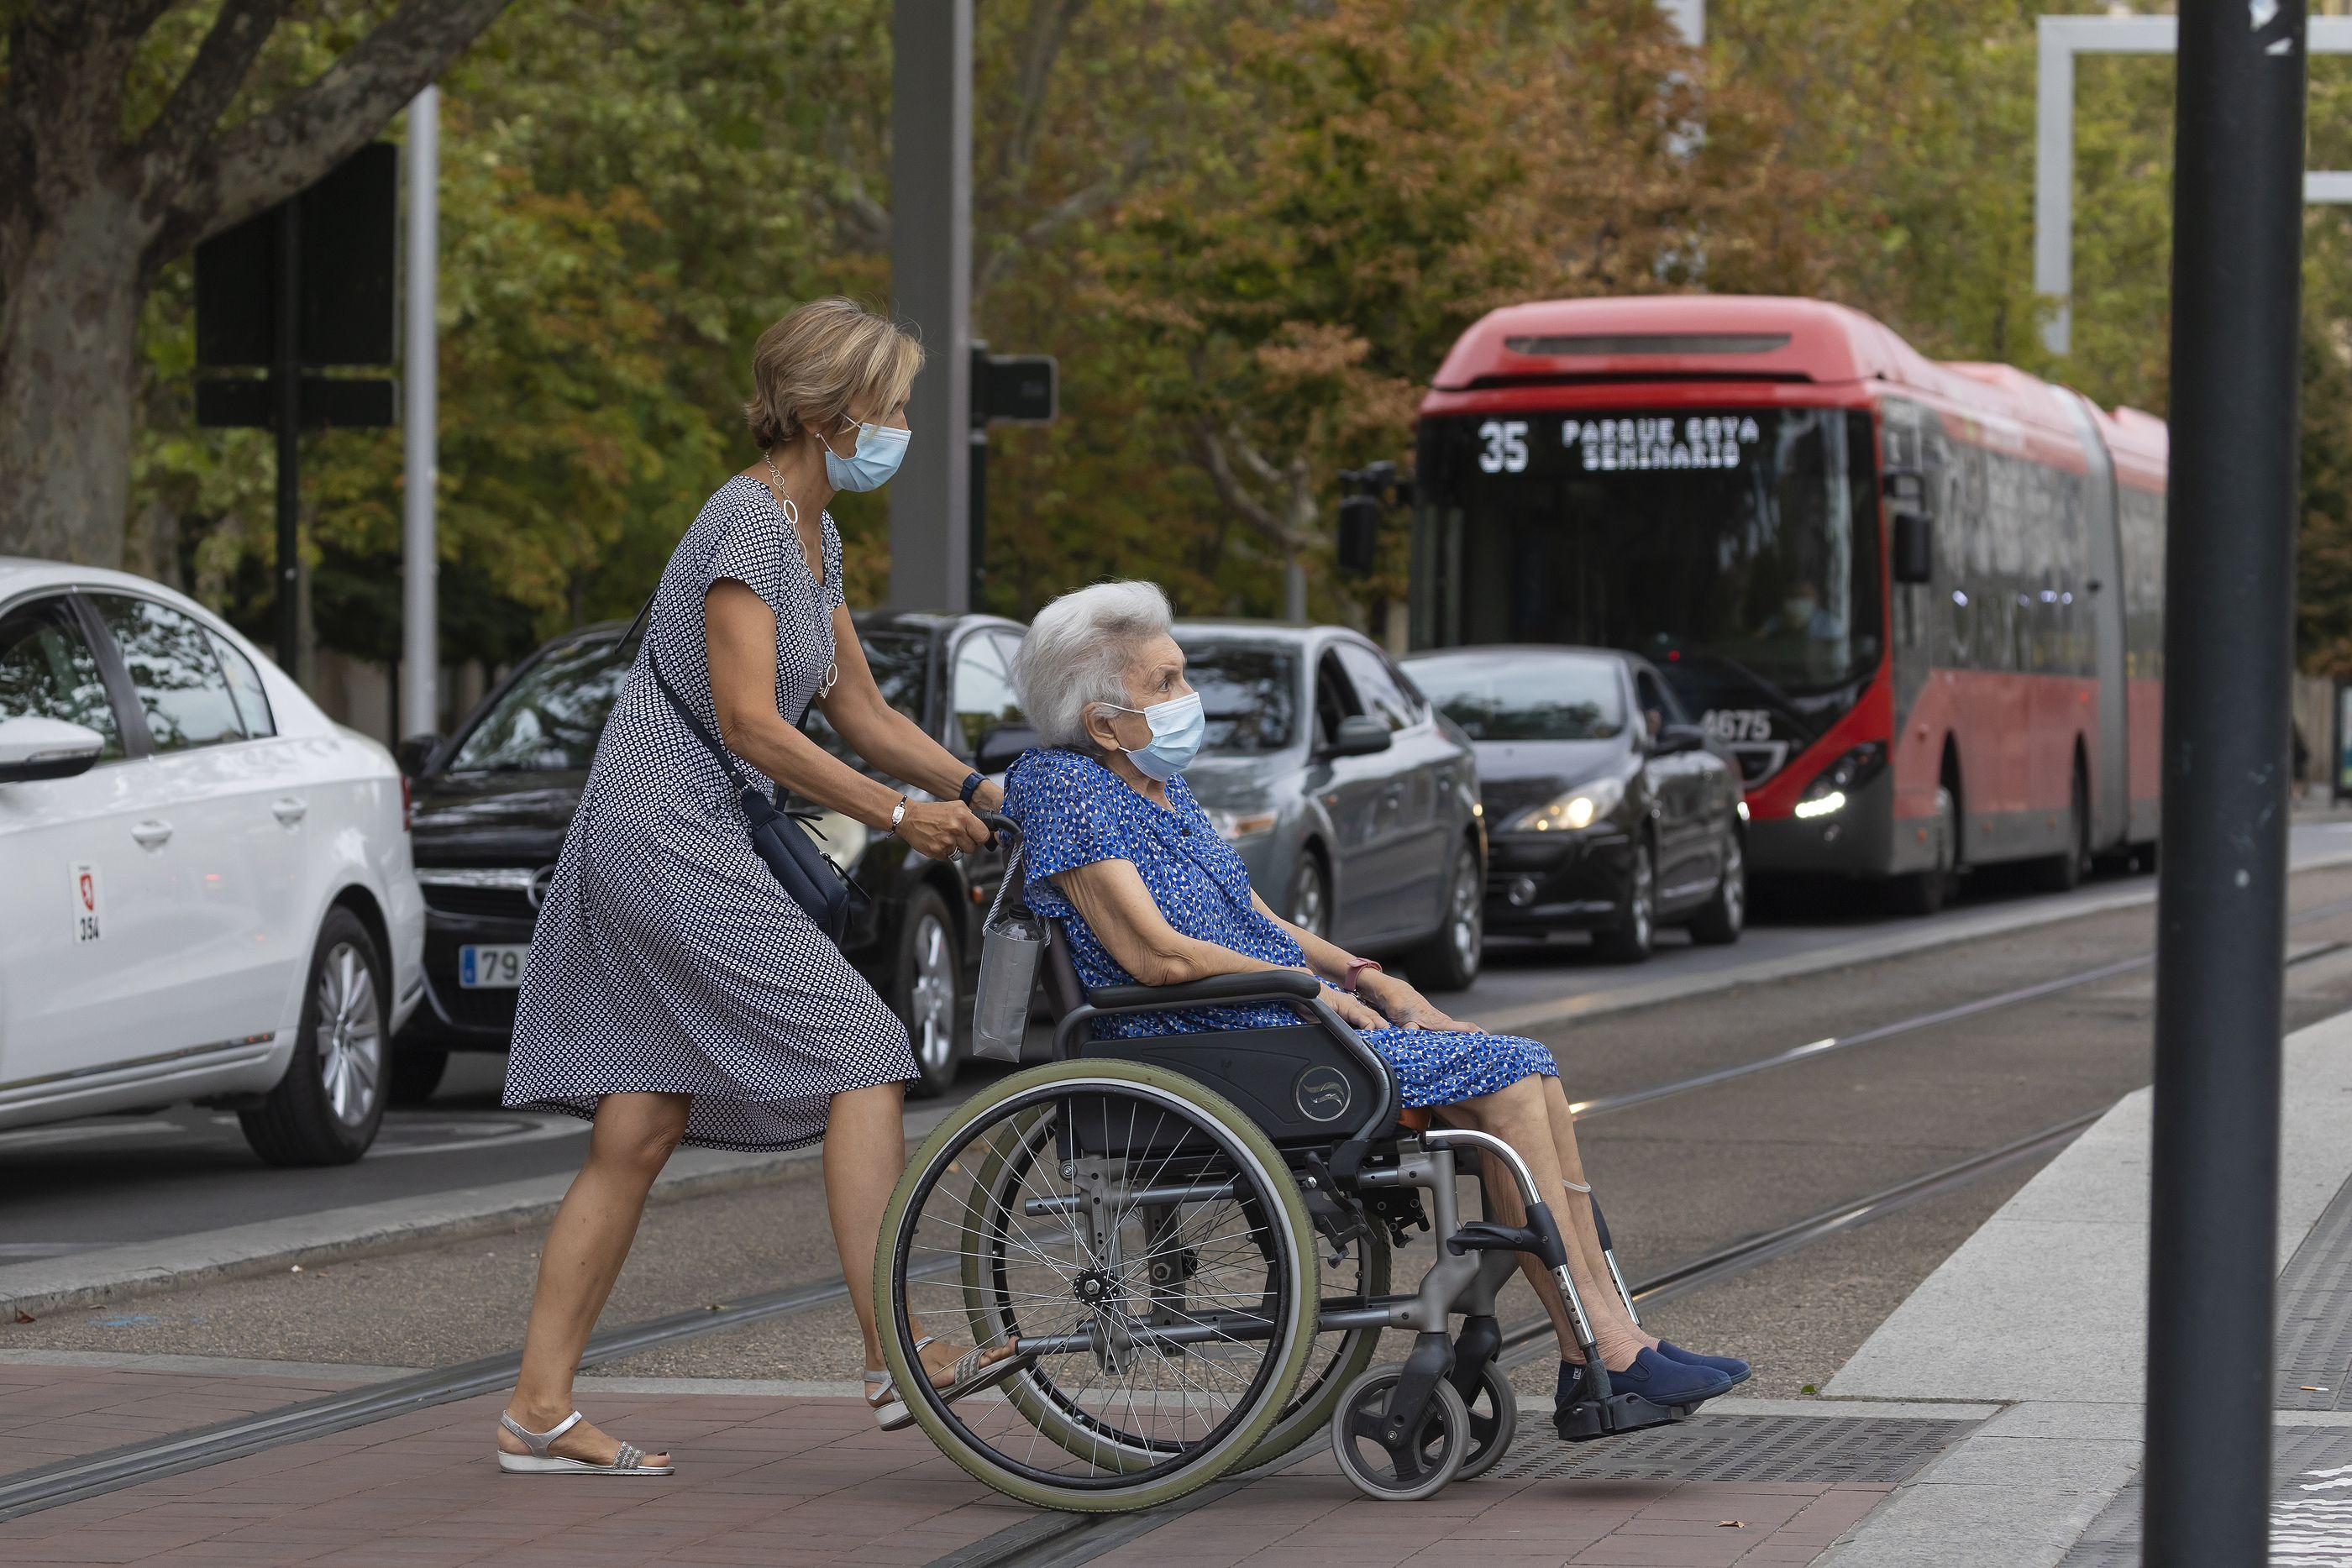push_wheelchair: (499, 296, 1039, 1477)
wheelchair: (871, 579, 1753, 1514)
